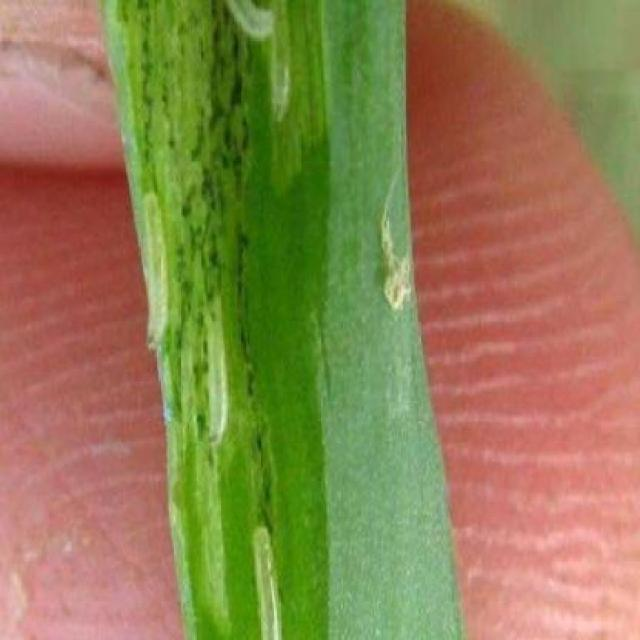whorl-maggot: (136, 184, 172, 364), (202, 294, 236, 444), (245, 523, 288, 640), (268, 0, 295, 125), (222, 0, 278, 48)
